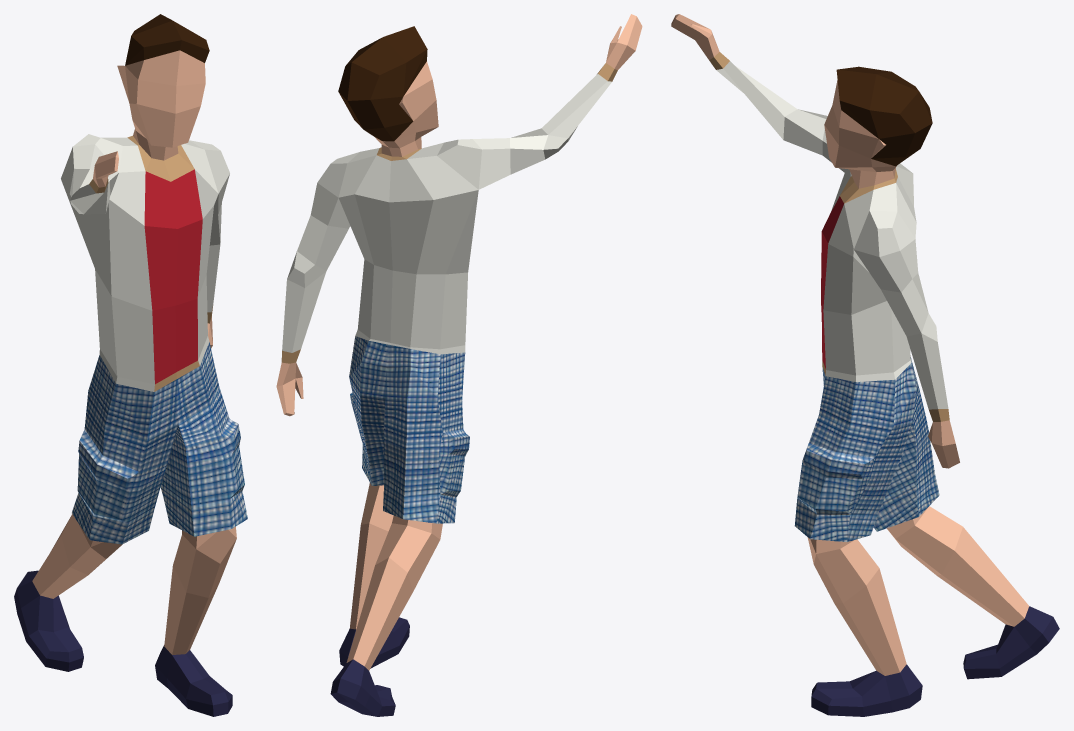
File: SpringBoy.003.glb
3 views of the same model, side by side, from view 1: azimuth 30°, elevation 25°; view 2: azimuth 150°, elevation 25°; view 3: azimuth 270°, elevation 25° (orthographic). The views are drawn at different scales.
Parts seen in each view (by area): view 1: SpringBoy.003; view 2: SpringBoy.003; view 3: SpringBoy.003.
Part boxes in pixels (bbox=[...]): SpringBoy.003: bbox=[14, 14, 247, 716]; SpringBoy.003: bbox=[276, 14, 642, 716]; SpringBoy.003: bbox=[671, 14, 1059, 716].
Size of the model in its own units: 0.4631 by 1.2 by 0.6755.
Materials: 1 (1 with a texture image).
